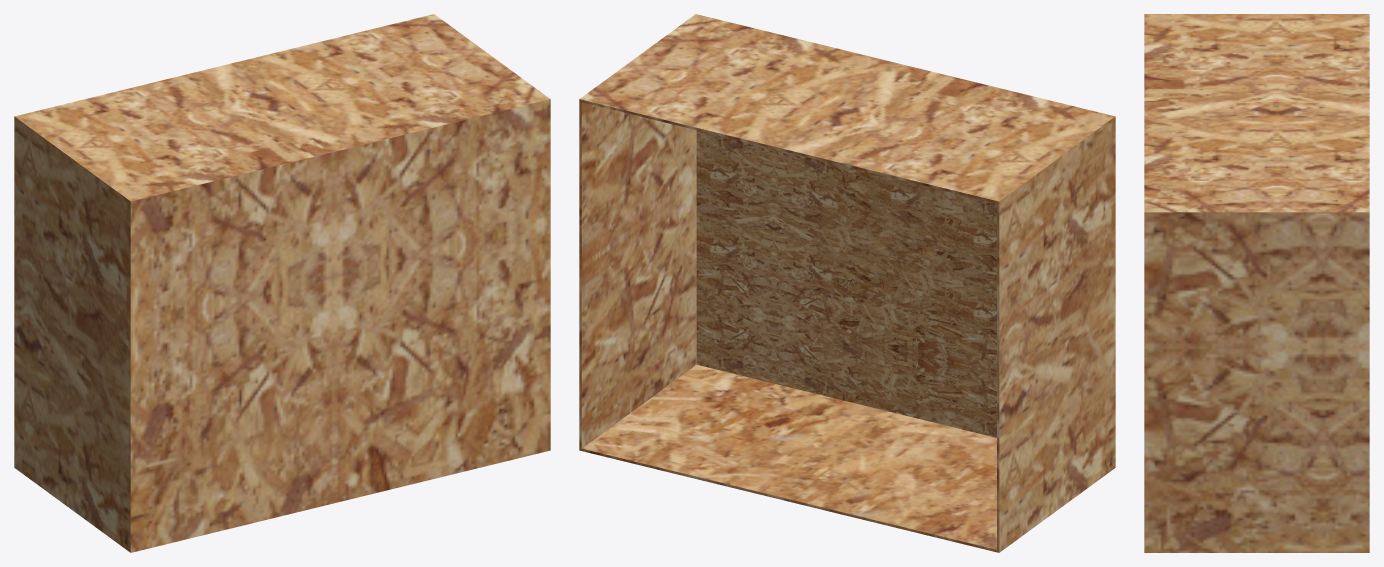
The model's file is victim-with-box1.dae.
The picture shows the model from 3 angles, left to right: view 1: azimuth 30°, elevation 25°; view 2: azimuth 150°, elevation 25°; view 3: azimuth 270°, elevation 25°; orthographic projection. The views are drawn at different scales.
Visible parts, largest first — view 1: Cube; view 2: Cube; view 3: Cube.
Part boxes in pixels (left/top/right/bottom): Cube: left=14, top=14, right=550, bottom=552; Cube: left=579, top=14, right=1115, bottom=552; Cube: left=1144, top=14, right=1369, bottom=552.
Bounding box in the file's own units: 0.5 × 0.24 × 0.4.
1 material, 1 textured.
